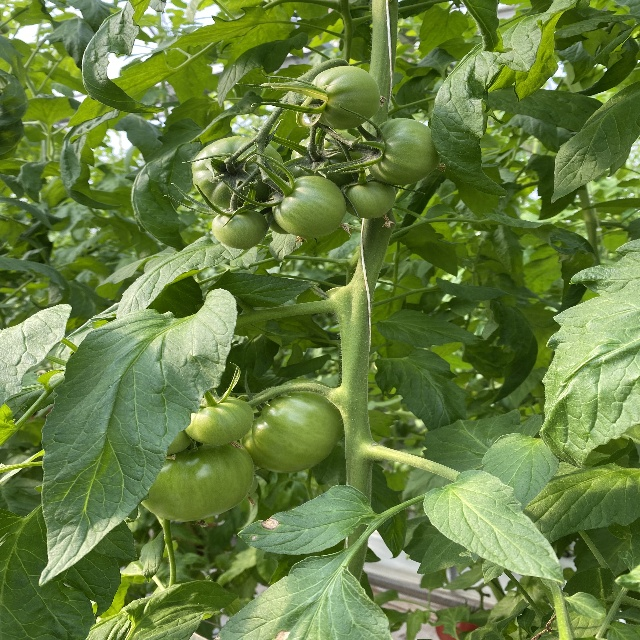b_green: (239, 378, 349, 474), (139, 444, 254, 521), (191, 136, 289, 211), (367, 118, 441, 185), (272, 176, 347, 238), (310, 66, 381, 130), (290, 130, 367, 189), (183, 396, 254, 445), (212, 209, 269, 250), (340, 180, 397, 219)
